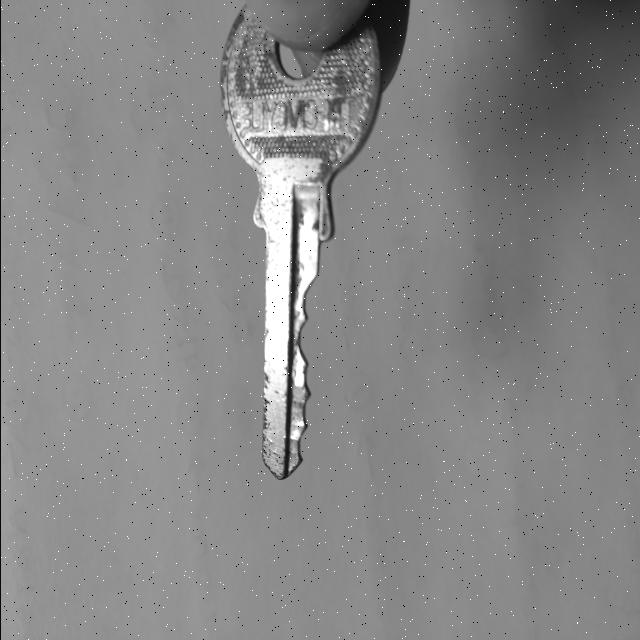key: (220, 5, 380, 479)
